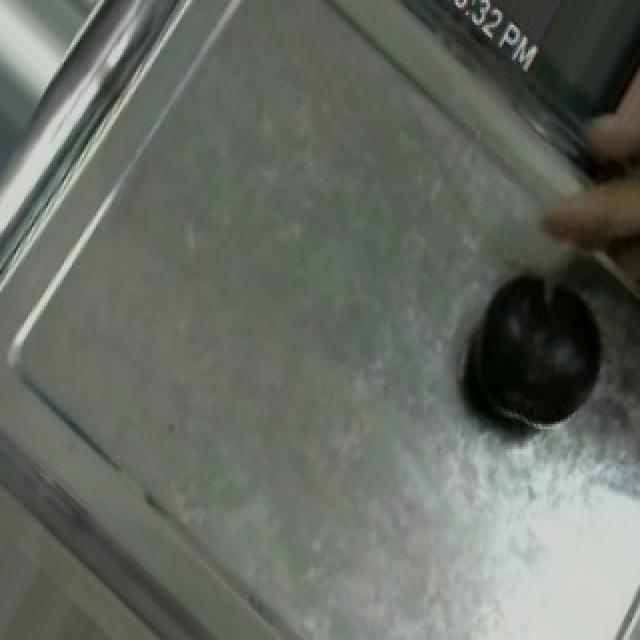Fruit: (452, 256, 622, 444)
